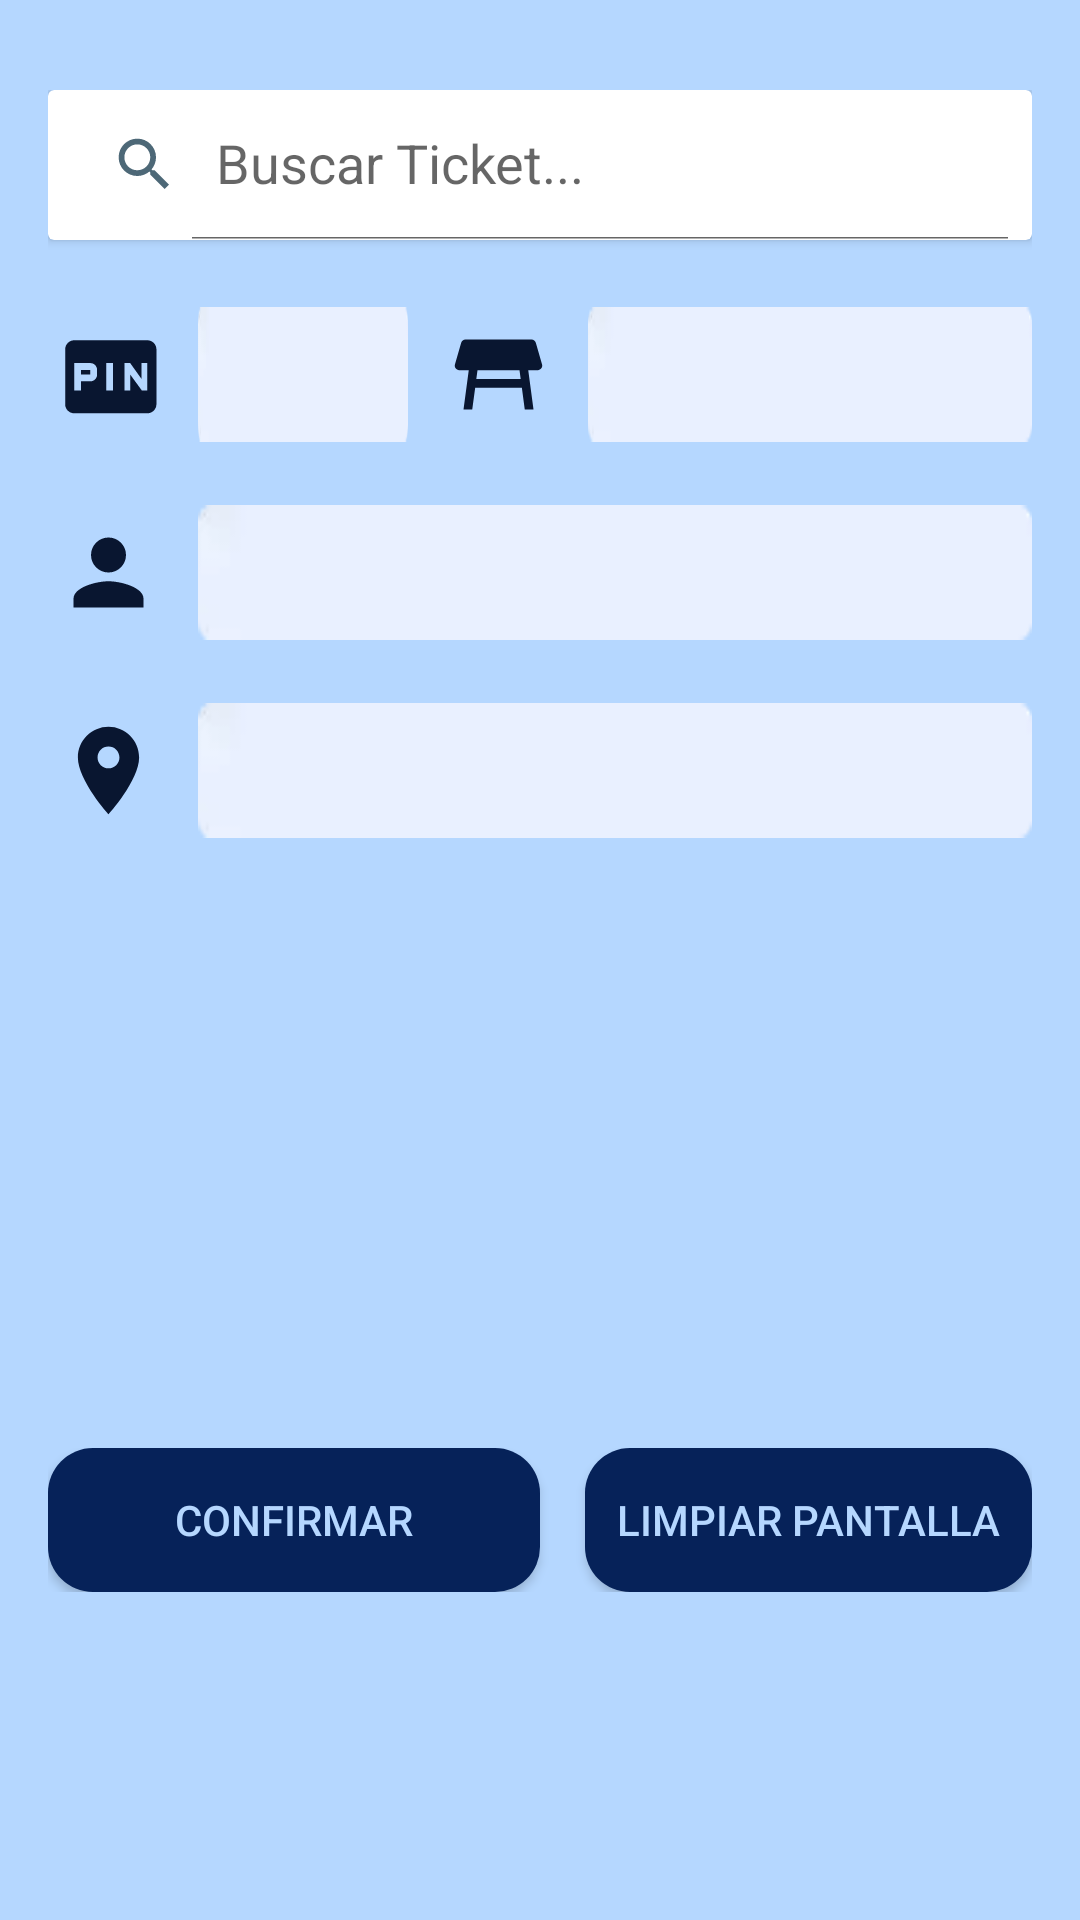

Screen size 1080×1920. Icon name, then its box in pixels as (x1, y1, x2, y2):
area comedor: (454, 339, 543, 410)
persona: (73, 537, 144, 608)
